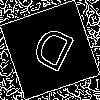D: (25, 25, 77, 82)
